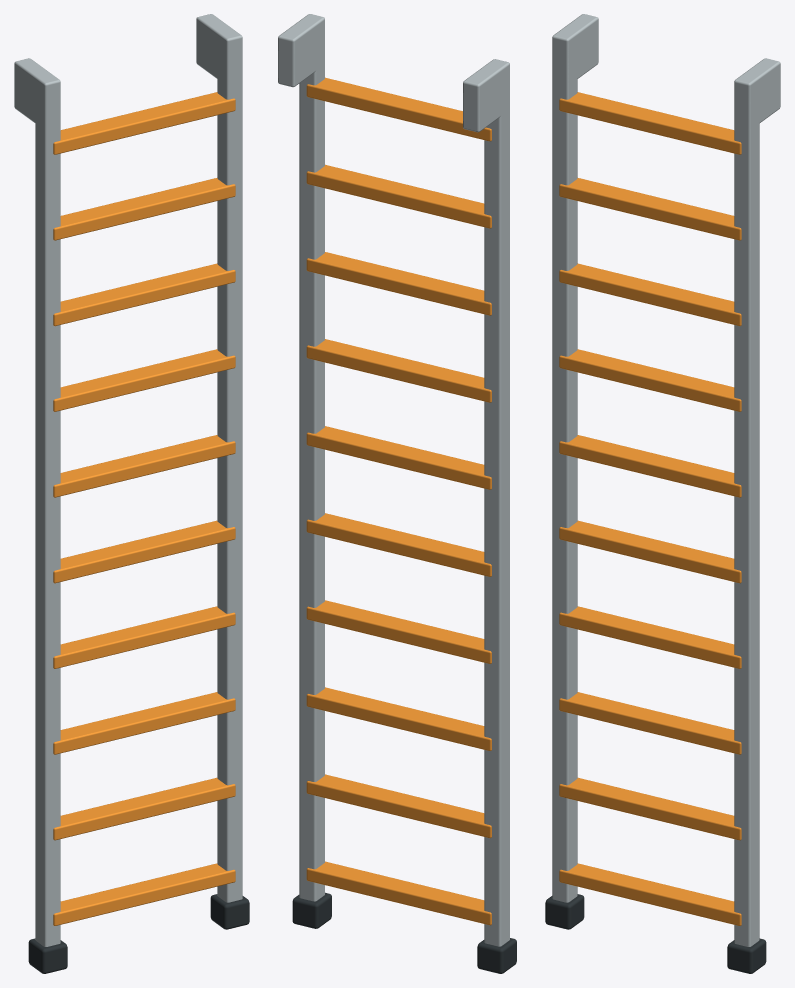
Rendered from container-inspection-and-customs-yard-container-inspec-418053bd__29312.glb.
3 renders of one model, left to right at view 1: azimuth 30°, elevation 25°; view 2: azimuth 150°, elevation 25°; view 3: azimuth 330°, elevation 25°, orthographic.
Parts seen in each view (by area): view 1: container-inspection-and-customs-yard-reach-access-ladder; view 2: container-inspection-and-customs-yard-reach-access-ladder; view 3: container-inspection-and-customs-yard-reach-access-ladder.
Part boxes in pixels (x1=…): container-inspection-and-customs-yard-reach-access-ladder: x1=14, y1=14, x2=249, y2=973; container-inspection-and-customs-yard-reach-access-ladder: x1=278, y1=14, x2=516, y2=973; container-inspection-and-customs-yard-reach-access-ladder: x1=545, y1=14, x2=780, y2=973.
Bounding box in the file's own units: 0.685 × 2.8 × 0.1951.
